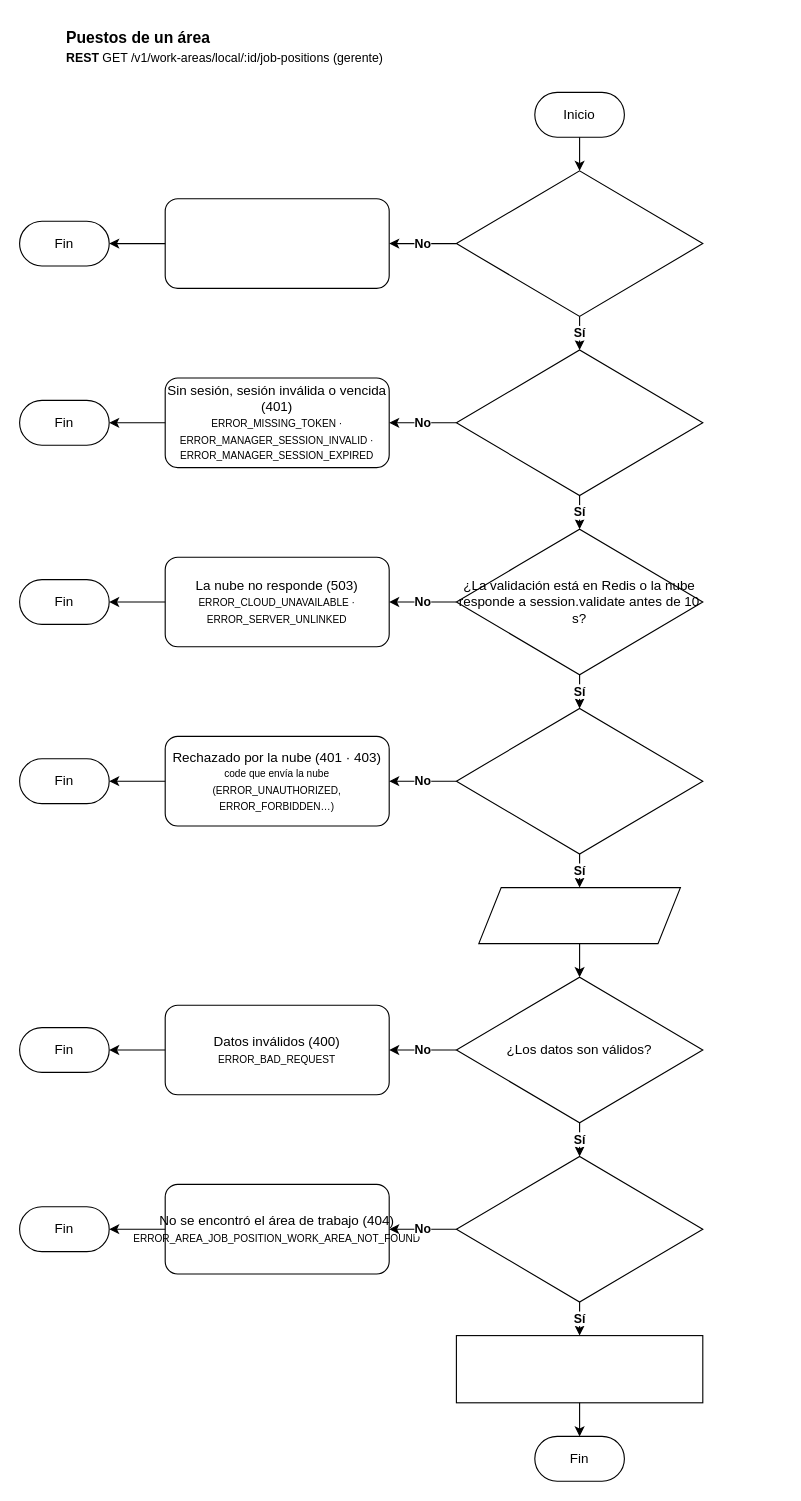
Image size: 801x1501. Some labels were removed from this diagram. The box of each missing label's shape, as (x1, y1, x2, y2) in pixels:
Recibir datos: (478, 886, 680, 944)
Responder 200 con el mensaje JOB_POSITIONS_RETRIEVED: (455, 1334, 703, 1403)
Servidor sin emparejar (409) ERROR_SERVER_NOT_PAIRED: (164, 198, 389, 288)
¿El servidor ya se emparejó alguna vez (pairing_status distinto de unpaired)?: (455, 170, 703, 316)
¿Existe el área de trabajo?: (455, 1155, 703, 1302)
¿La nube acepta la sesión del gerente con este servidor?: (455, 707, 703, 854)
¿Trae una sesión de gerente válida (Bearer mss_..., sin 30 min de inactividad)?: (455, 349, 703, 496)
